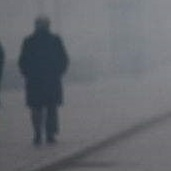person: (18, 16, 67, 144)
